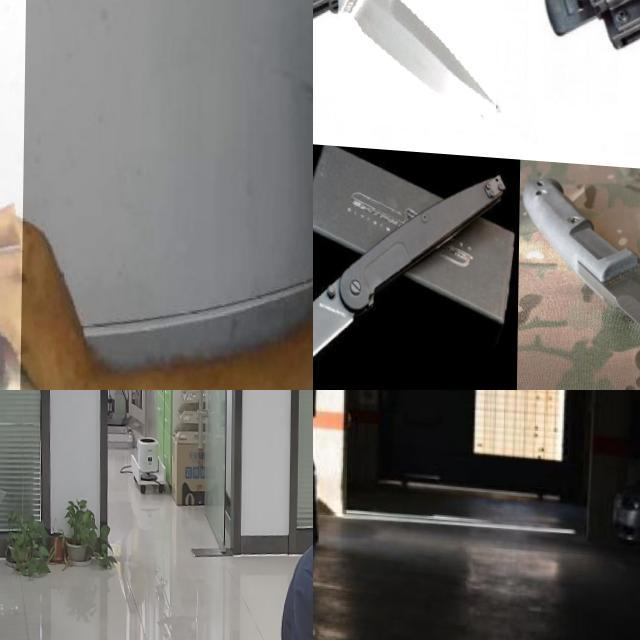-: (0, 0, 68, 390), (337, 0, 498, 128), (313, 263, 388, 390)
